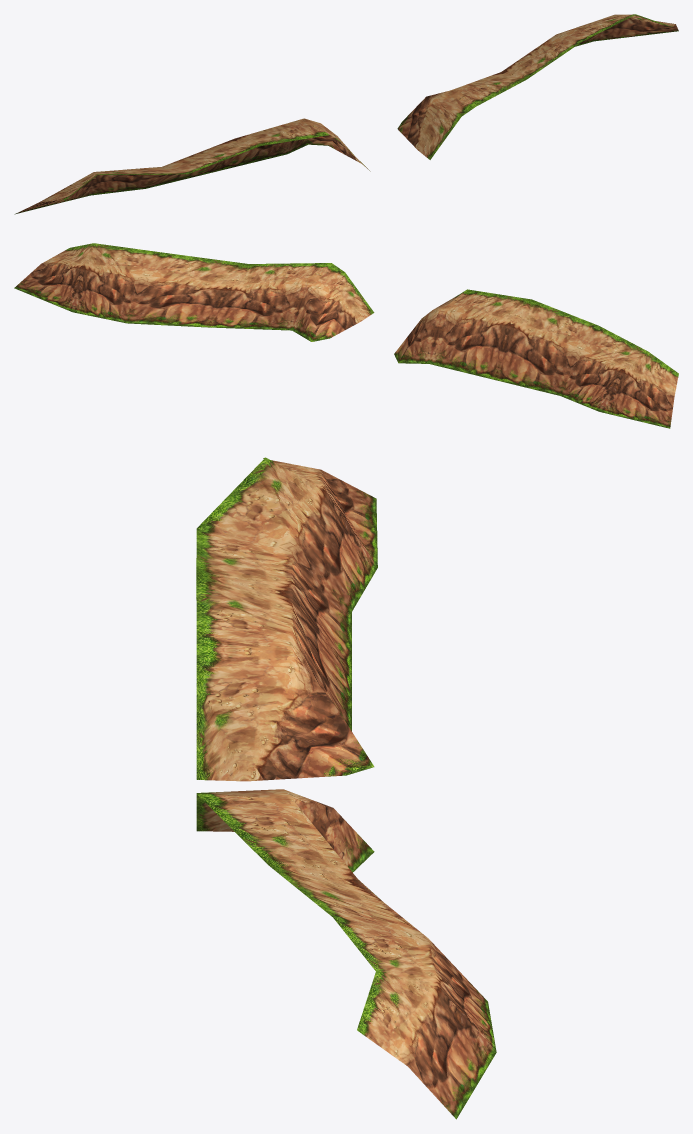
File: bridge_hill.fbx
3 views of the same model, one above another, from view 1: azimuth 30°, elevation 25°; view 2: azimuth 150°, elevation 25°; view 3: azimuth 270°, elevation 25° (orthographic). The views are drawn at different scales.
Visible parts, largest first — view 1: bridge_hill; view 2: bridge_hill; view 3: bridge_hill.
Boxes of the visible parts, box(x1,y1,x2,y2) form: bridge_hill: box(14, 14, 678, 214); bridge_hill: box(14, 243, 678, 428); bridge_hill: box(196, 457, 496, 1119).
Size of the model in its own units: 21445 by 1705 by 4383.
